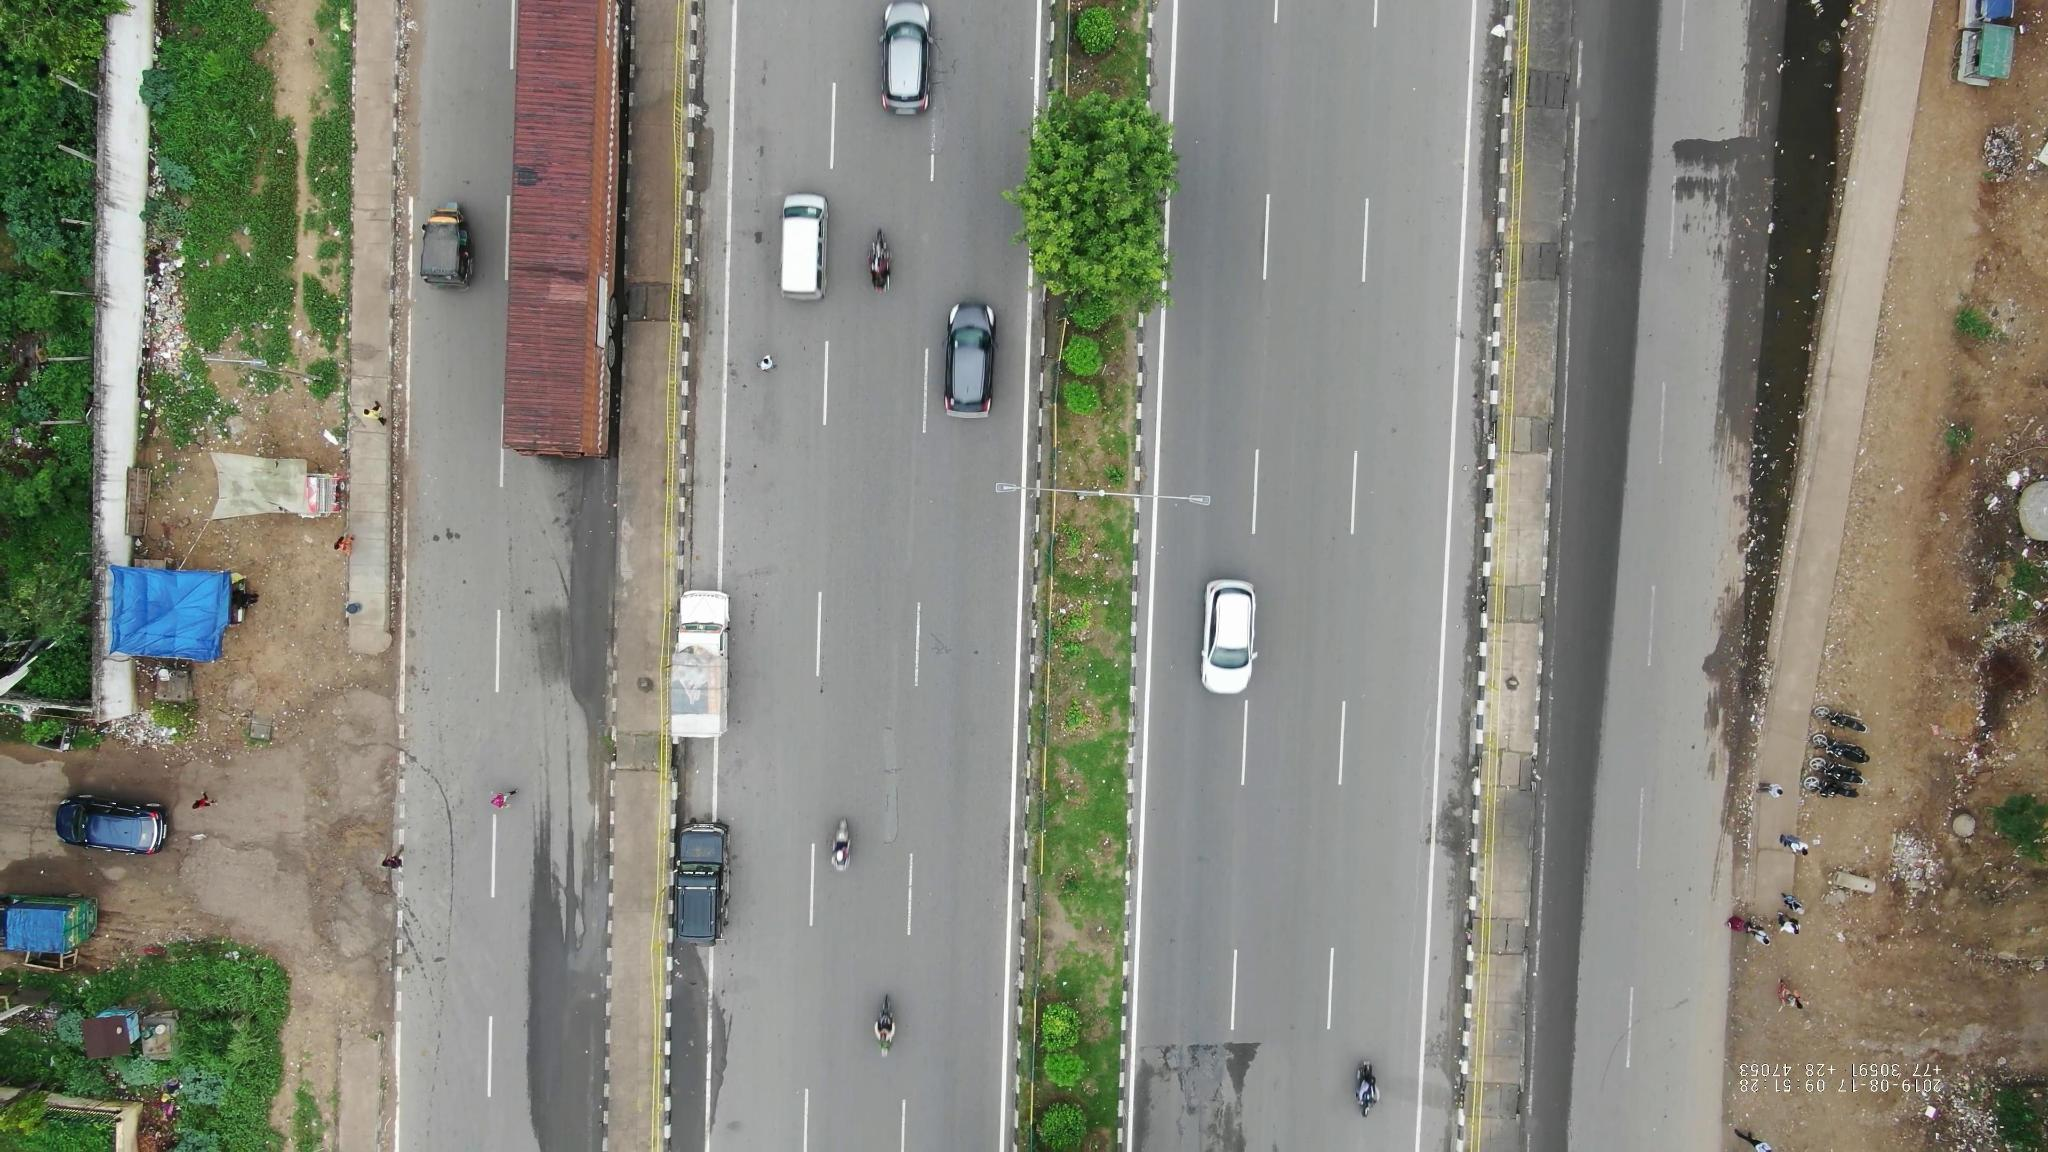Cracks: (1137, 1037, 1255, 1151)
Road_side_garbage: (118, 219, 228, 405), (94, 710, 210, 779)
Waterlogging: (1734, 253, 1837, 702), (1768, 6, 1854, 246)
